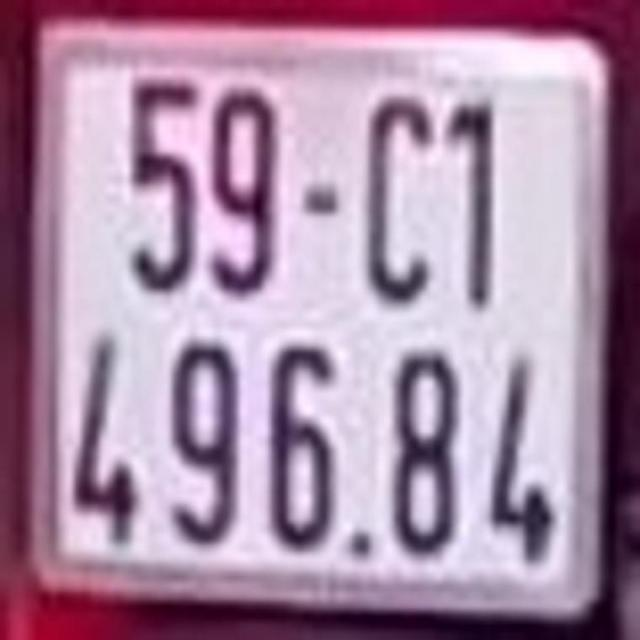1: (449, 104, 499, 301)
4: (82, 344, 140, 546), (497, 358, 548, 564)
5: (124, 77, 192, 286)
6: (274, 352, 332, 542)
8: (395, 354, 456, 546)
9: (171, 342, 242, 542), (209, 83, 274, 295)
C: (369, 92, 431, 302)
